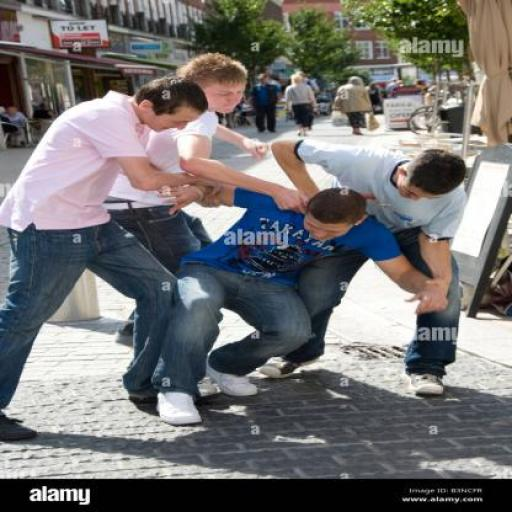Fighting: (0, 38, 465, 424)
